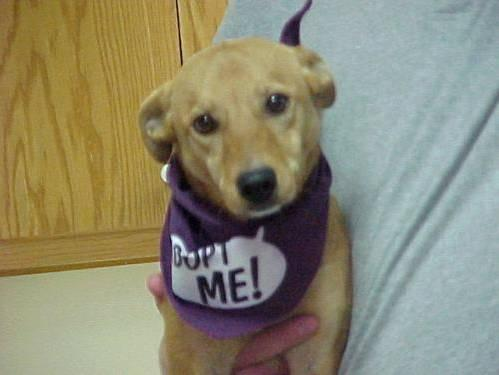dog: (139, 0, 350, 374)
